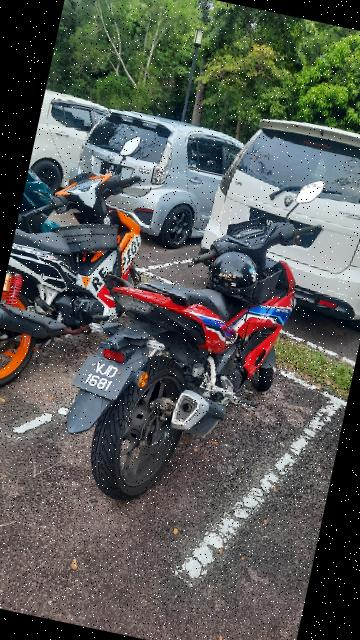License_Plate: (65, 346, 145, 413)
motorcycle: (47, 137, 356, 540)
